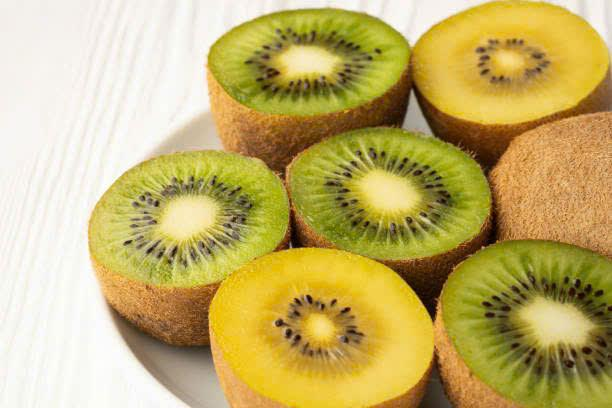kiwi: (81, 135, 299, 323), (208, 259, 436, 406), (209, 6, 425, 153), (282, 137, 498, 276), (436, 229, 612, 398), (424, 6, 612, 128)
